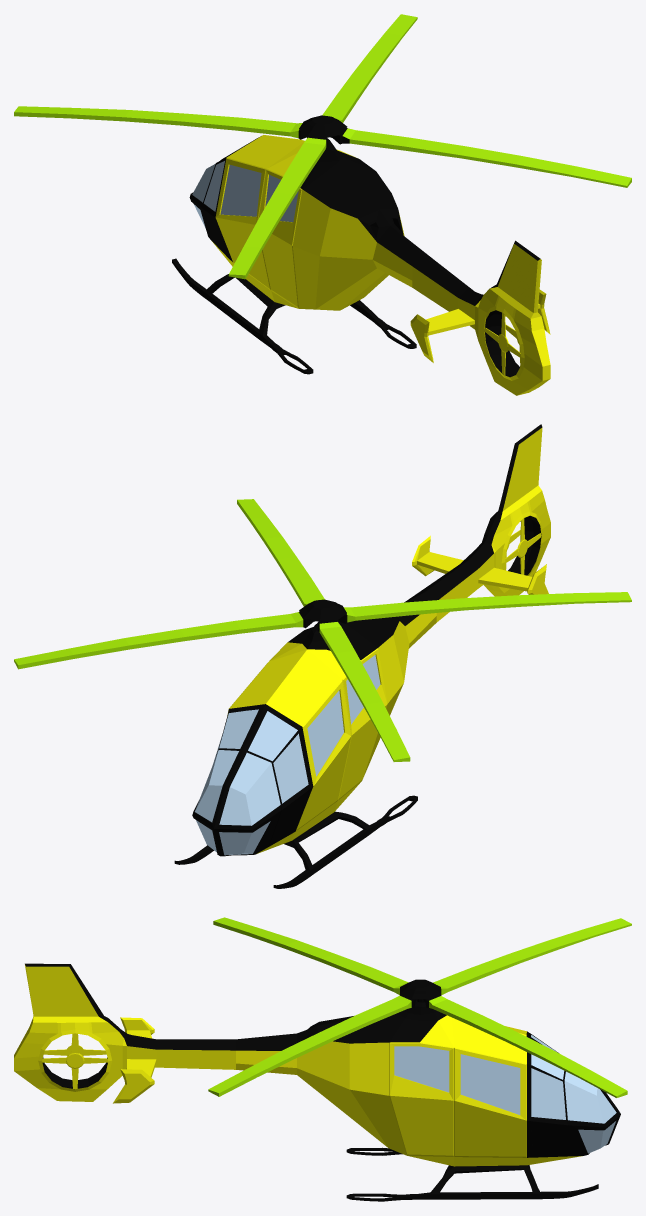
File: MEDIKOPTER.glb
The picture shows the model from 3 angles, top to bottom: view 1: azimuth 30°, elevation 25°; view 2: azimuth 150°, elevation 25°; view 3: azimuth 270°, elevation 25°; orthographic projection. The views are drawn at different scales.
Visible parts, largest first — view 1: Body, topwings; view 2: Body, topwings; view 3: Body, topwings.
Part boxes in pixels (box(x1,y1,x2,y2)): Body: box(172, 135, 550, 395); topwings: box(14, 14, 631, 279); Body: box(174, 424, 550, 888); topwings: box(14, 499, 631, 761); Body: box(14, 963, 620, 1201); topwings: box(208, 917, 631, 1097).
Bounding box in the file's own units: 12.58 × 6.96 × 18.34.
Materials: 1 (1 with a texture image).
